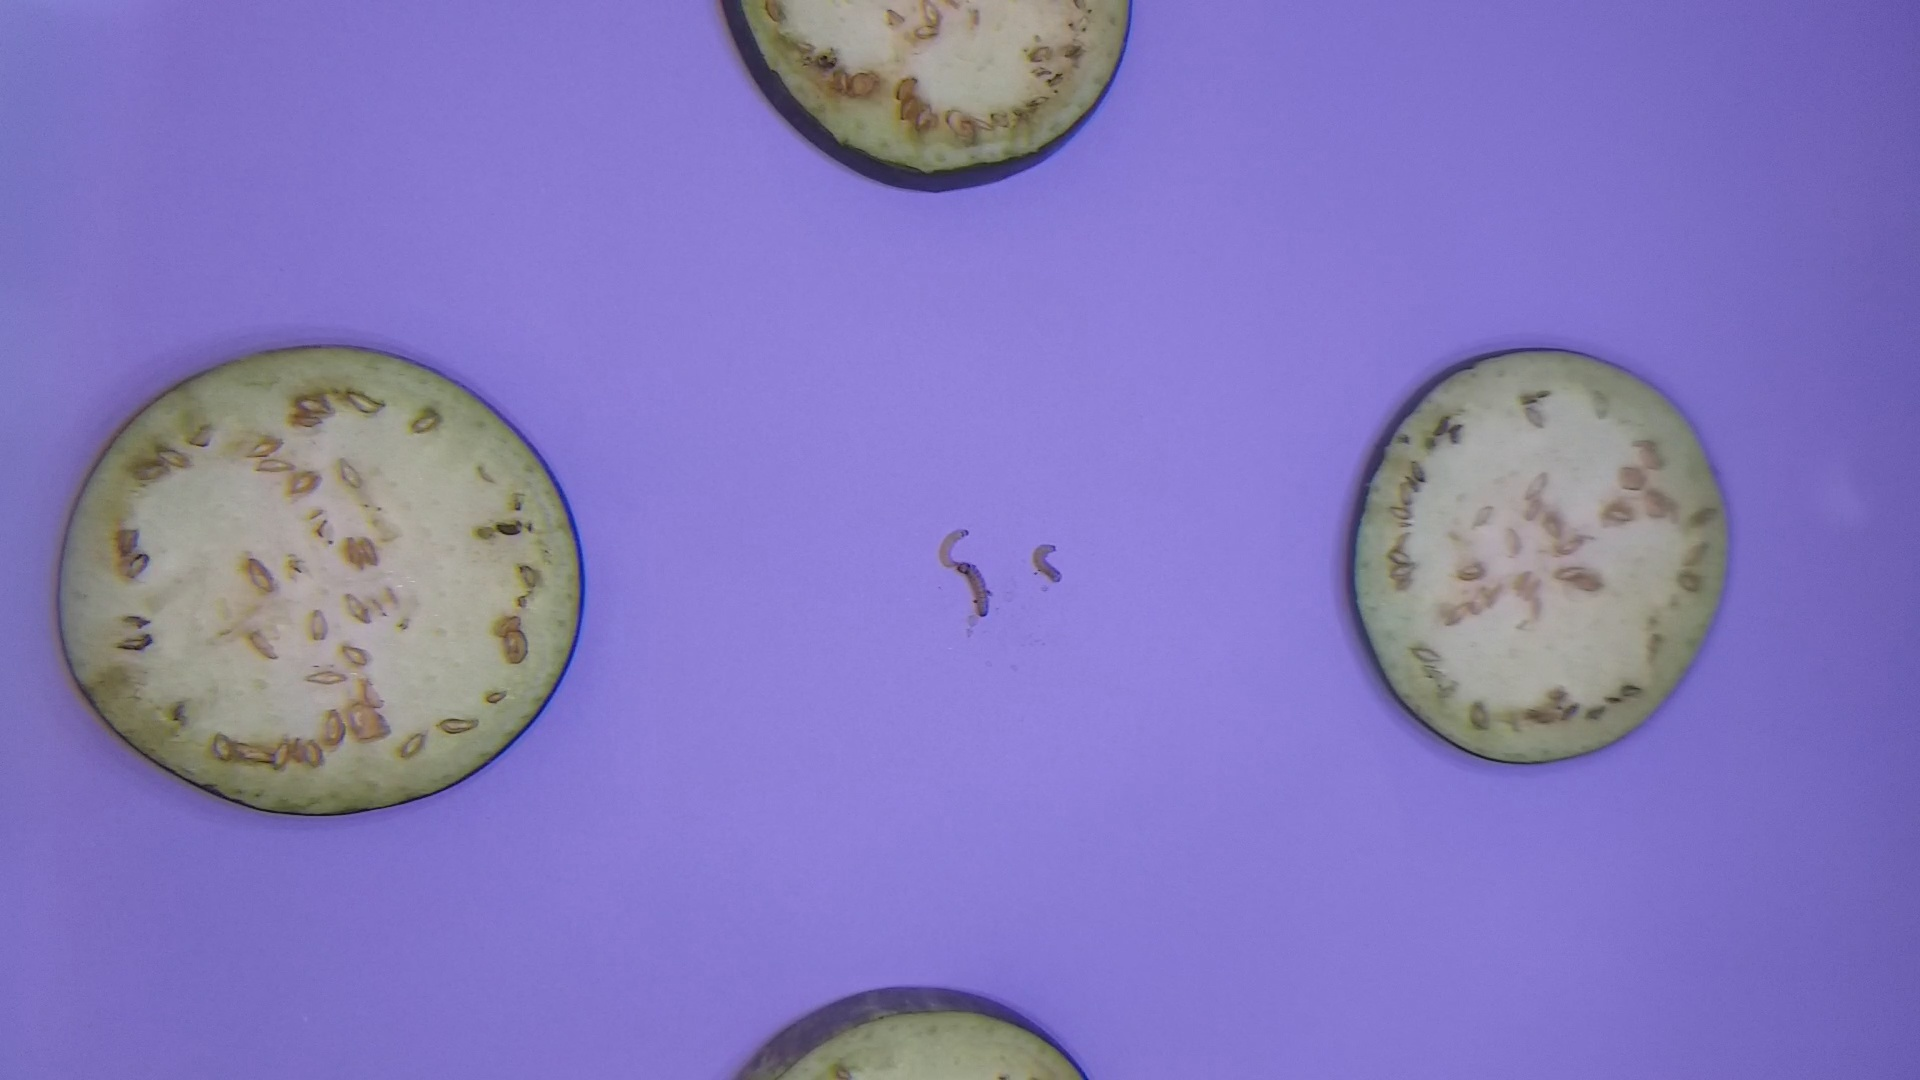efsb: (953, 559, 1000, 624), (1026, 541, 1071, 591), (934, 522, 973, 574)
eggplant: (49, 327, 593, 825), (1335, 334, 1747, 775), (715, 1, 1143, 206), (729, 976, 1116, 1080)
